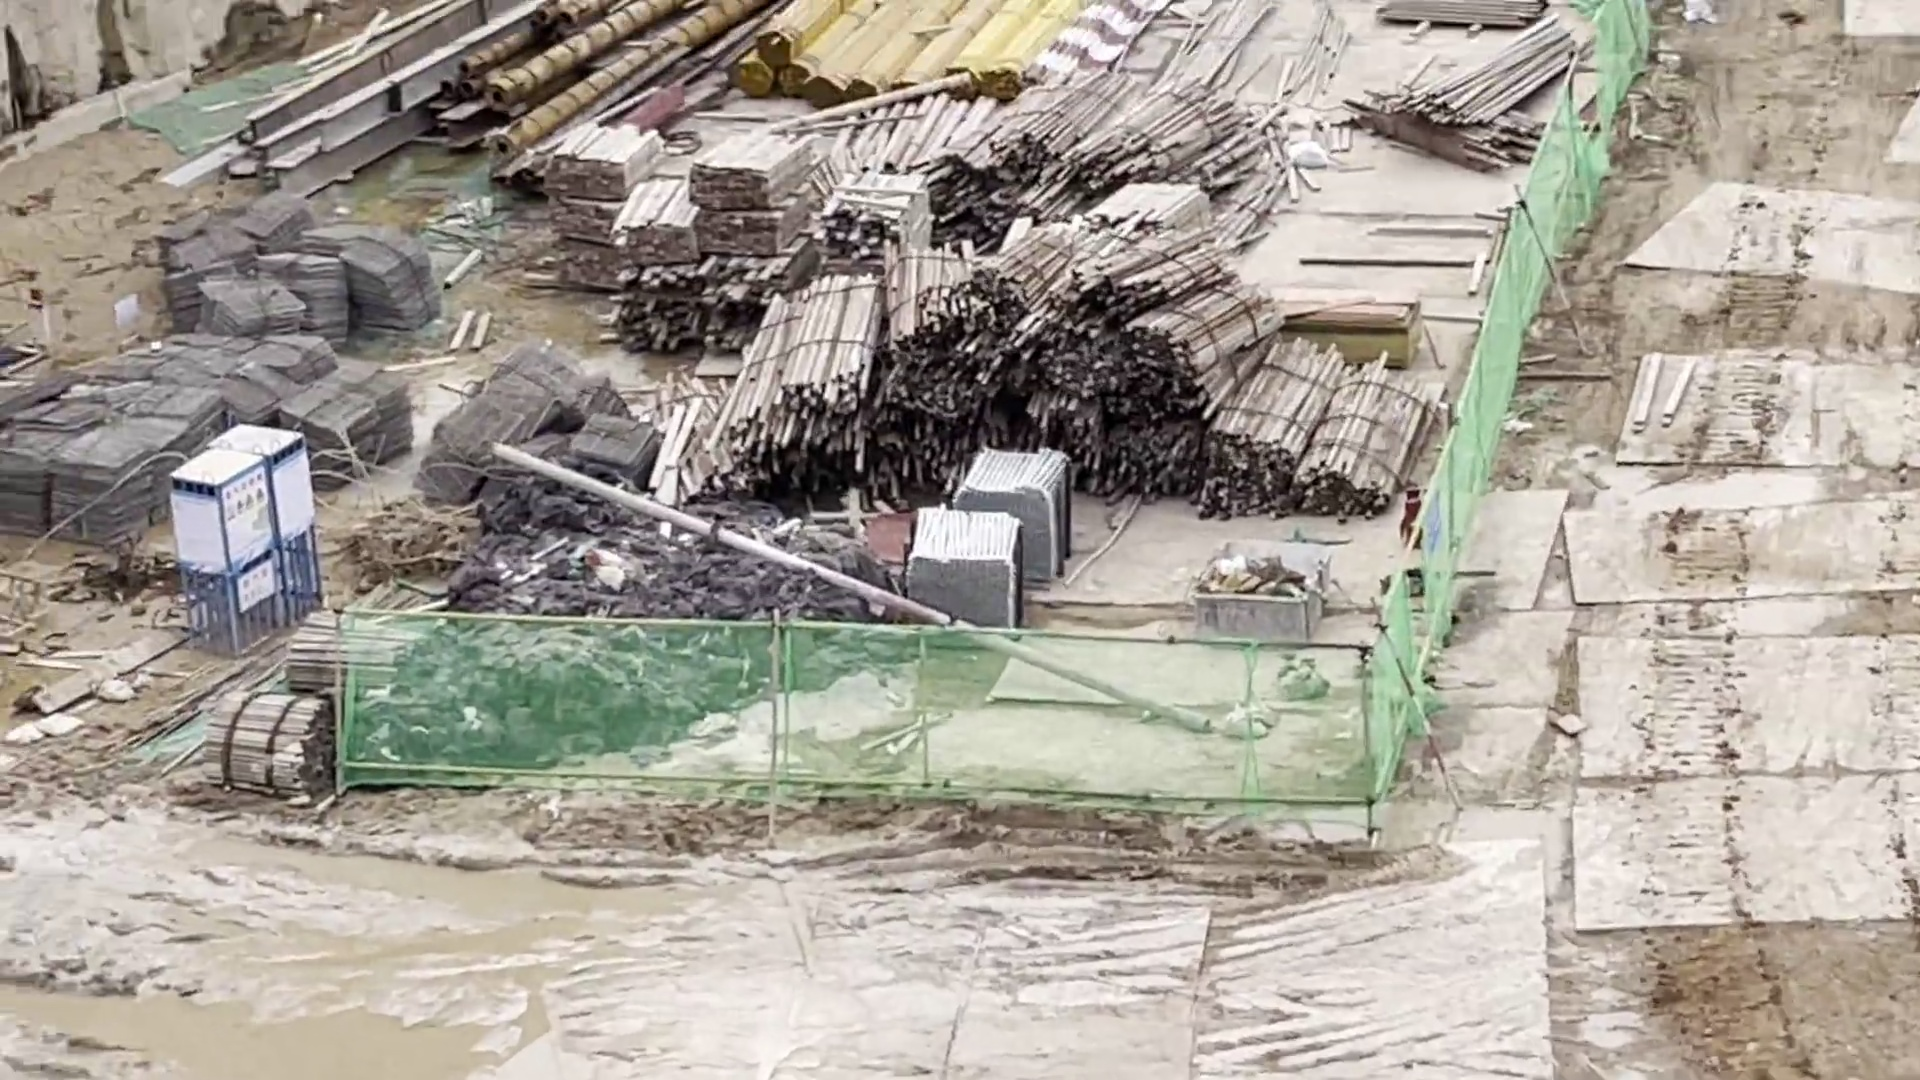hopper: (1201, 537, 1317, 625)
scaffold: (907, 501, 1015, 622), (971, 447, 1063, 575)
wood: (675, 245, 1385, 500), (857, 102, 1257, 237), (550, 136, 793, 258), (1364, 24, 1567, 138), (207, 686, 316, 791), (291, 609, 393, 688)
